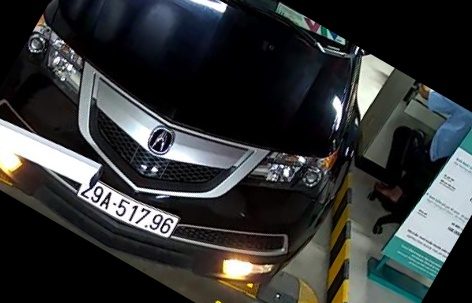plate: (78, 175, 197, 249)
